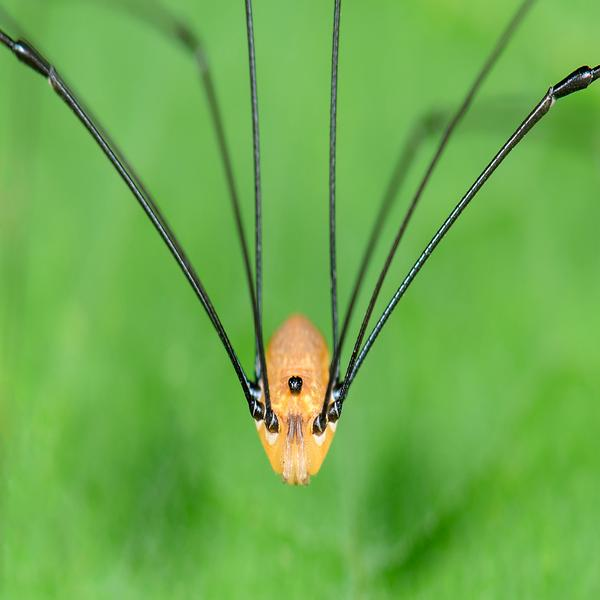Daddy Long Legs Spider: (1, 1, 596, 491)
